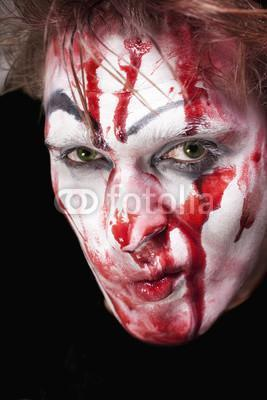Fire: (48, 24, 267, 346)
